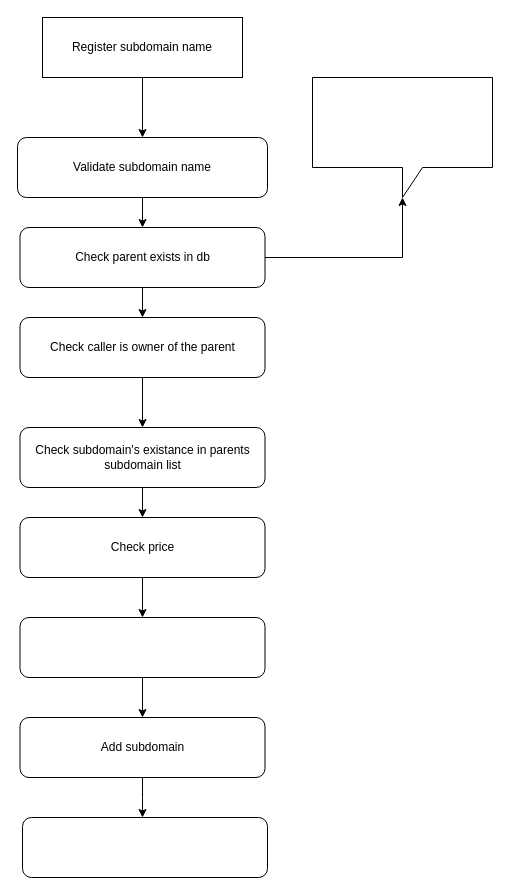
Image size: 510x895. Some labels were removed from this diagram. The box of each missing label's shape, as (x1, y1, x2, y2) in pixels:
Also consider 3 months of grace period: (312, 76, 492, 198)
Payment: (19, 616, 265, 678)
Update subdomain list on user side (session code): (22, 816, 268, 878)
